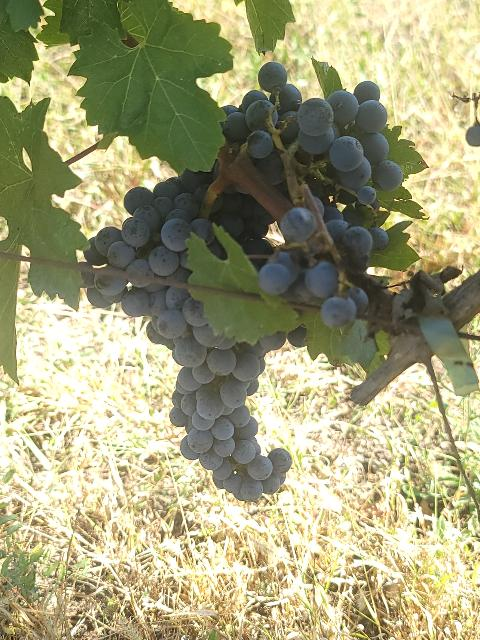grapes: (81, 172, 291, 501), (221, 62, 402, 274), (210, 184, 369, 328)
